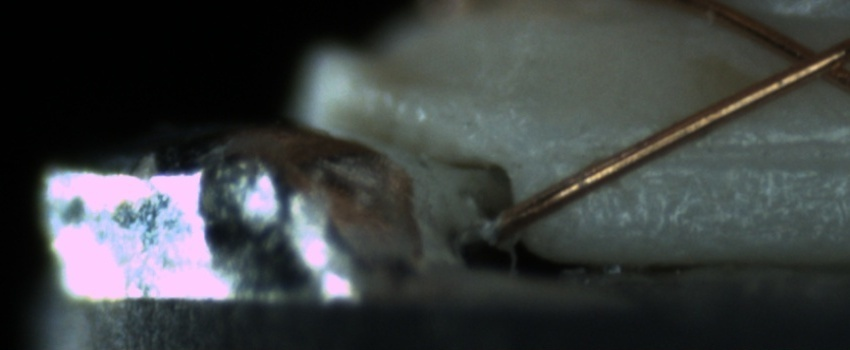CL: (764, 26, 850, 93)
DL: (566, 117, 849, 188)
